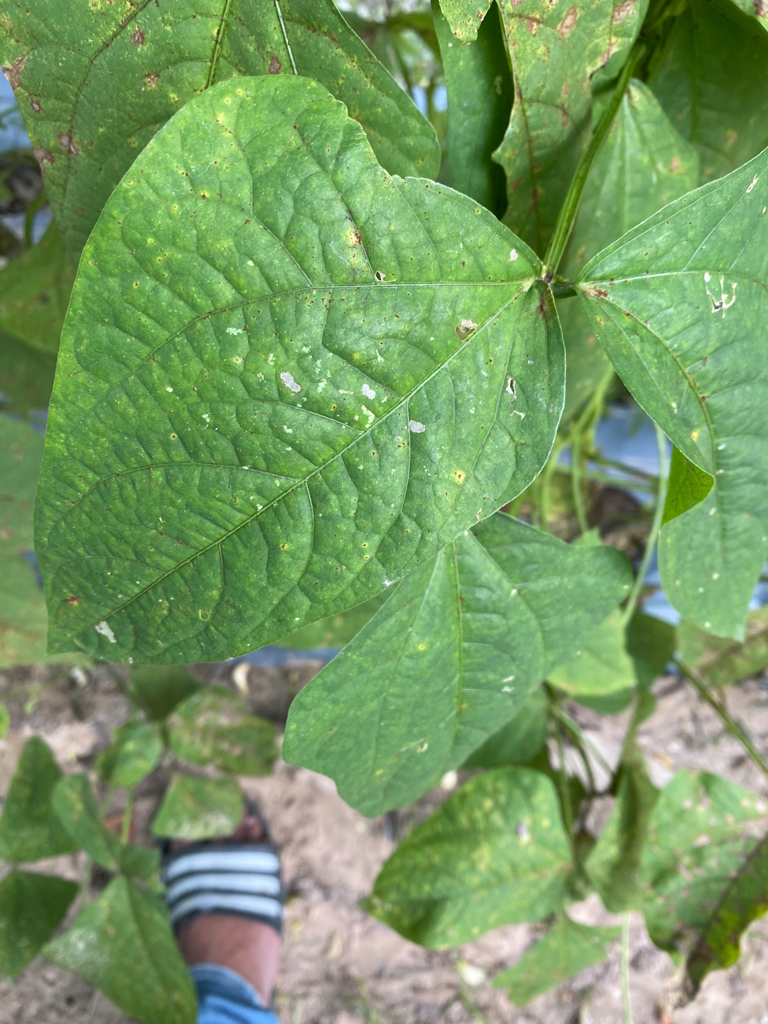Alternaria brassicicola: (407, 633, 477, 729), (204, 85, 257, 151), (325, 225, 387, 264), (344, 525, 381, 580), (441, 453, 480, 492), (267, 527, 299, 565)
